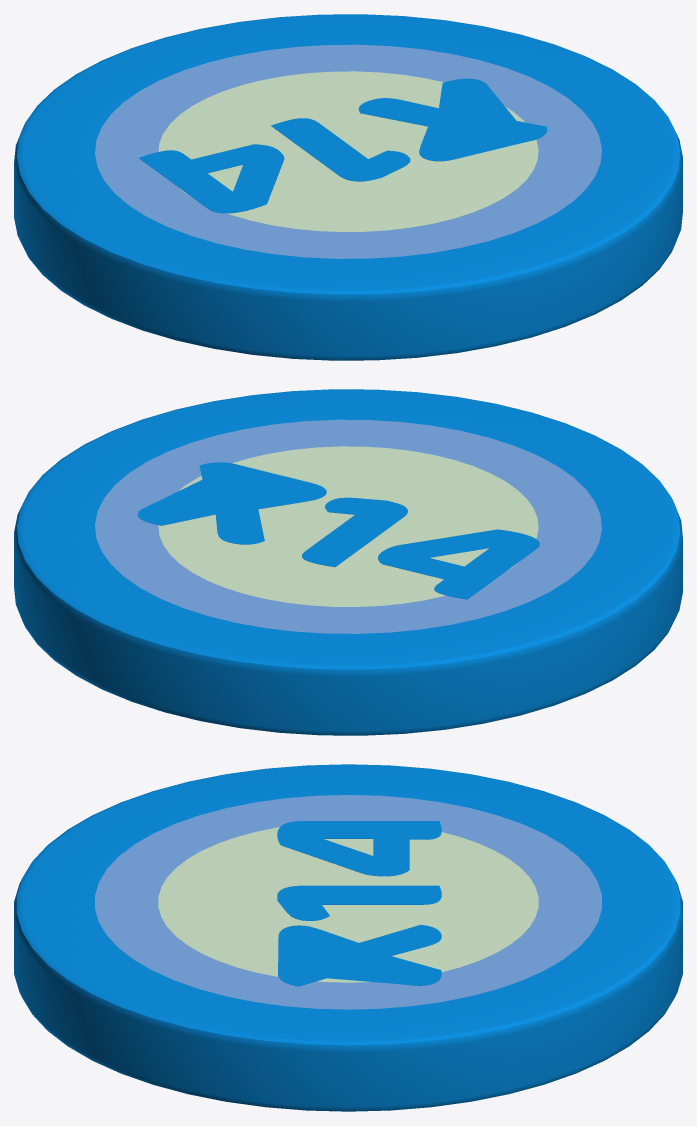
3 views of the same model, one above another, from view 1: azimuth 30°, elevation 25°; view 2: azimuth 150°, elevation 25°; view 3: azimuth 270°, elevation 25° (orthographic).
Visible parts, largest first — view 1: X14; view 2: X14; view 3: X14.
Part boxes in pixels (x1,y1,x2,y2): X14: (14, 14, 682, 360); X14: (14, 389, 682, 735); X14: (14, 764, 682, 1111).
Size of the model in its own units: 321 by 38.37 by 320.
